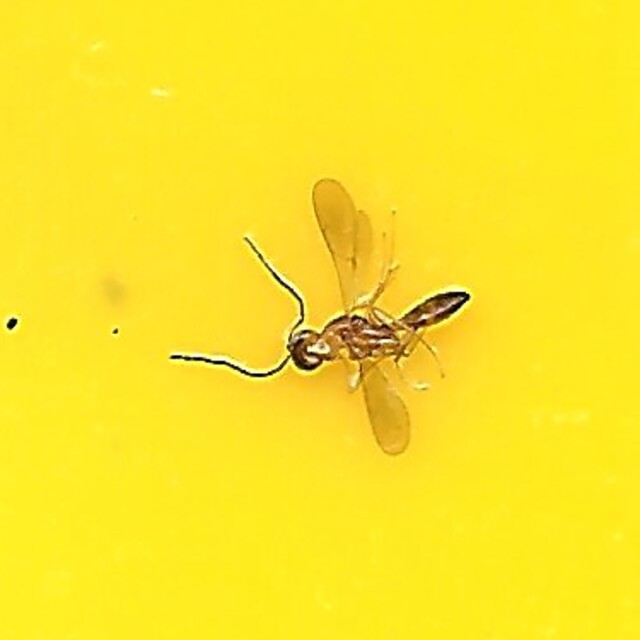Hymenoptera: (171, 181, 469, 459)
